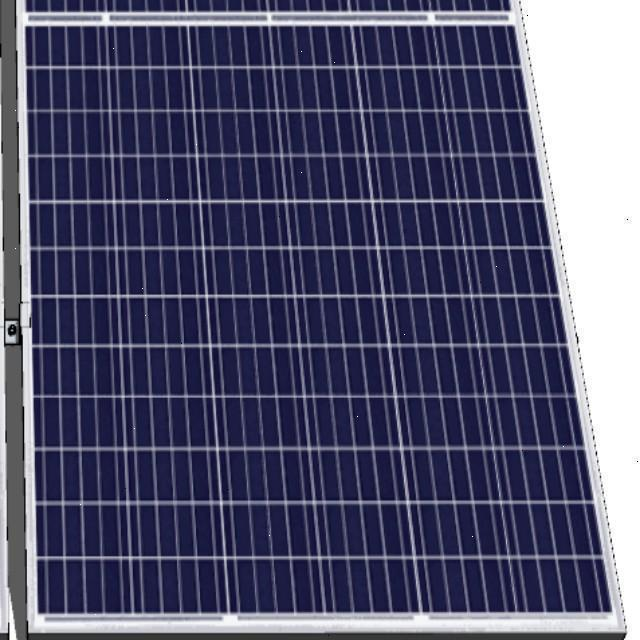Anomaly Solar Panel: (22, 13, 616, 620)
